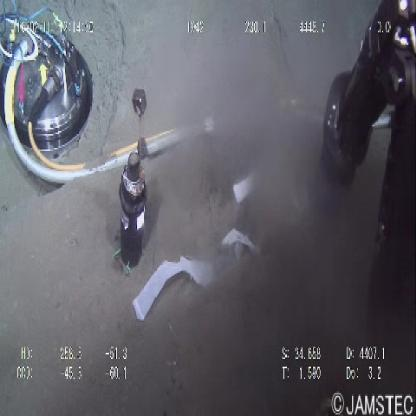Rov: (315, 1, 416, 220), (1, 3, 96, 185), (110, 80, 158, 284)
Rác: (132, 172, 270, 319)
